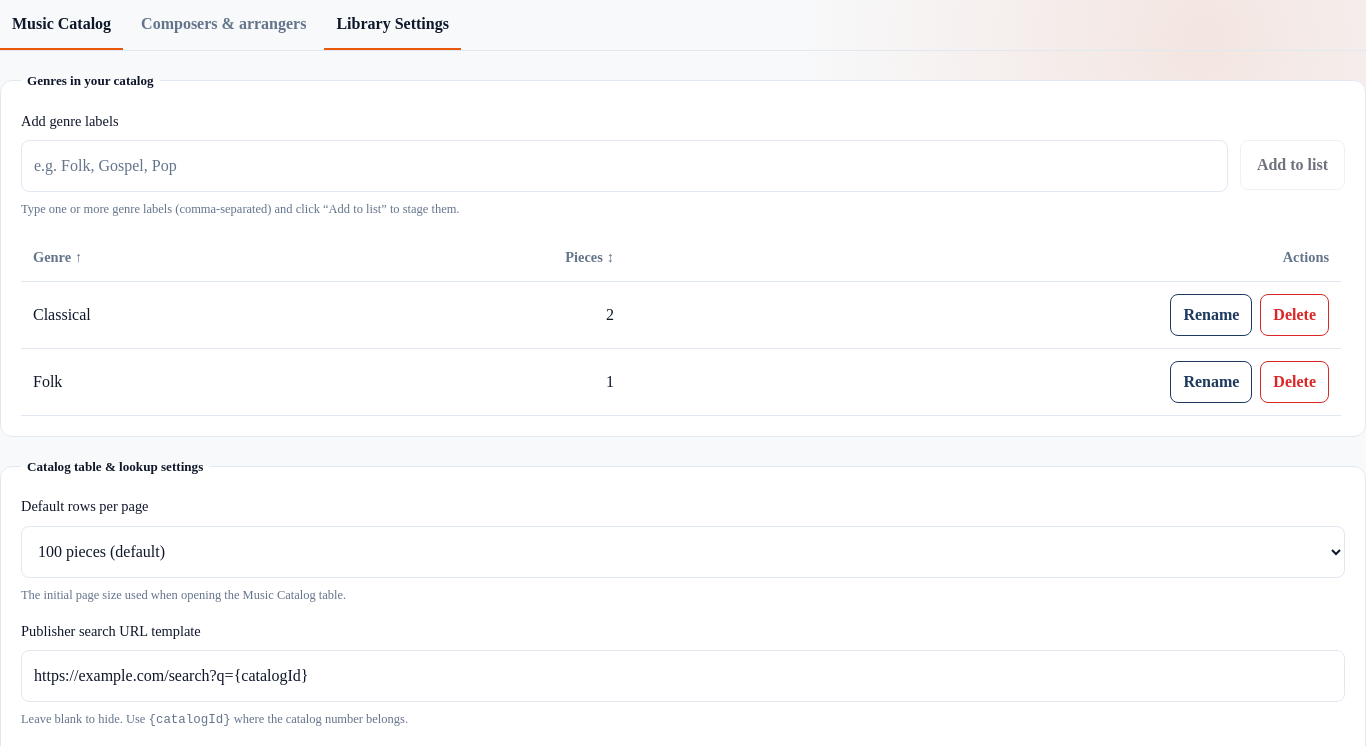
Test: MusicLibrarySettingsPage genre management with DataTable & batch add › rejects duplicates against saved genres and within input
In the field labelled "Add genre labels": x=624, y=166 [21, 140, 1228, 192], type "classical"
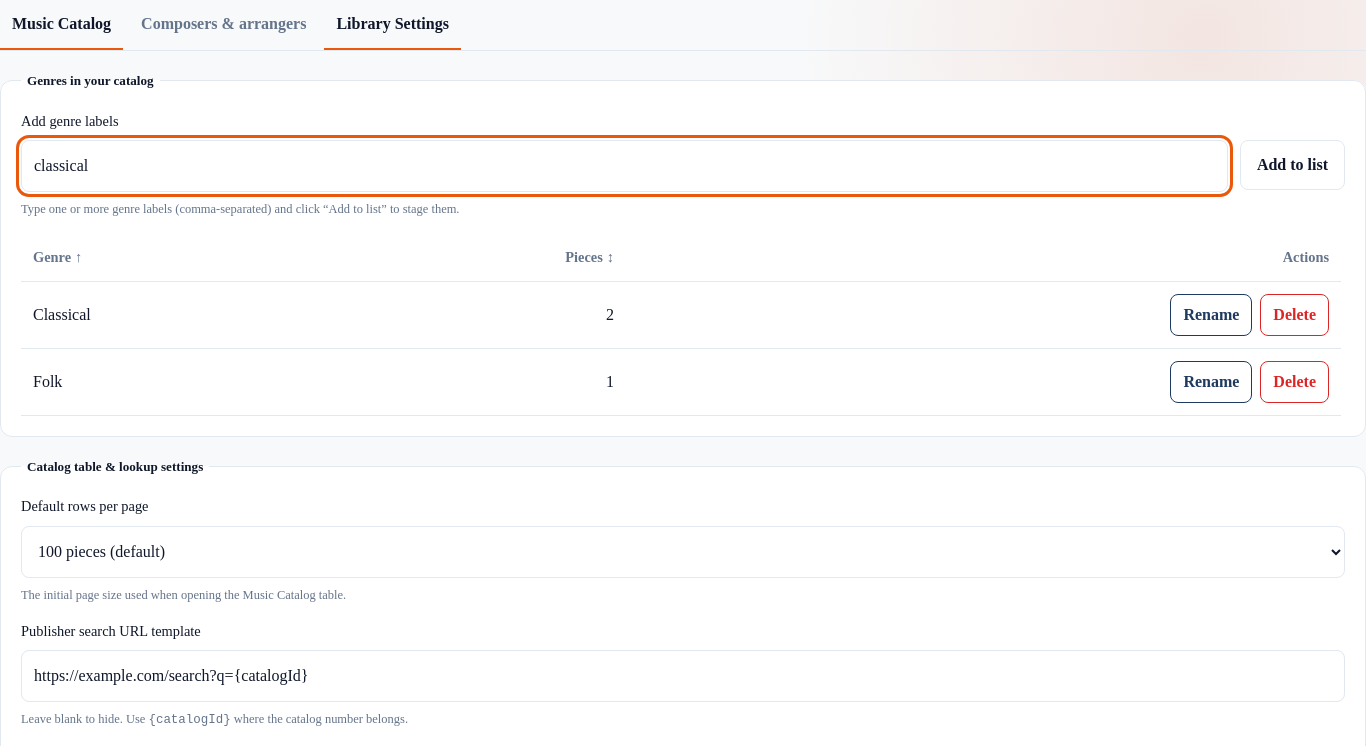
Click the button "Add to list": x=1292, y=165 [1240, 140, 1345, 190]
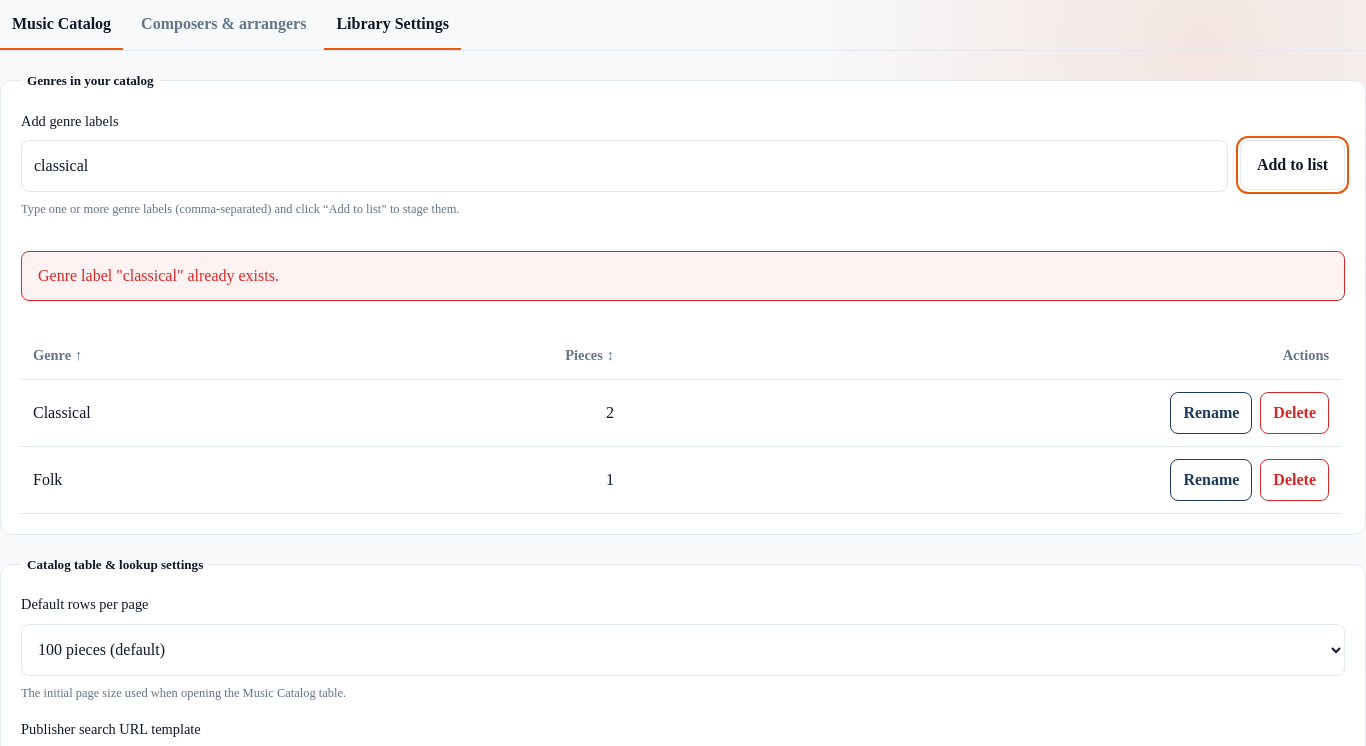
Expected: the message reads "Genre label \"classical\" already exists.", [38, 267, 279, 284]
// Duplicated within input
Replace the text in the field labelled "Add genre labels" with "Rock, rock": x=624, y=166 [21, 140, 1228, 192]
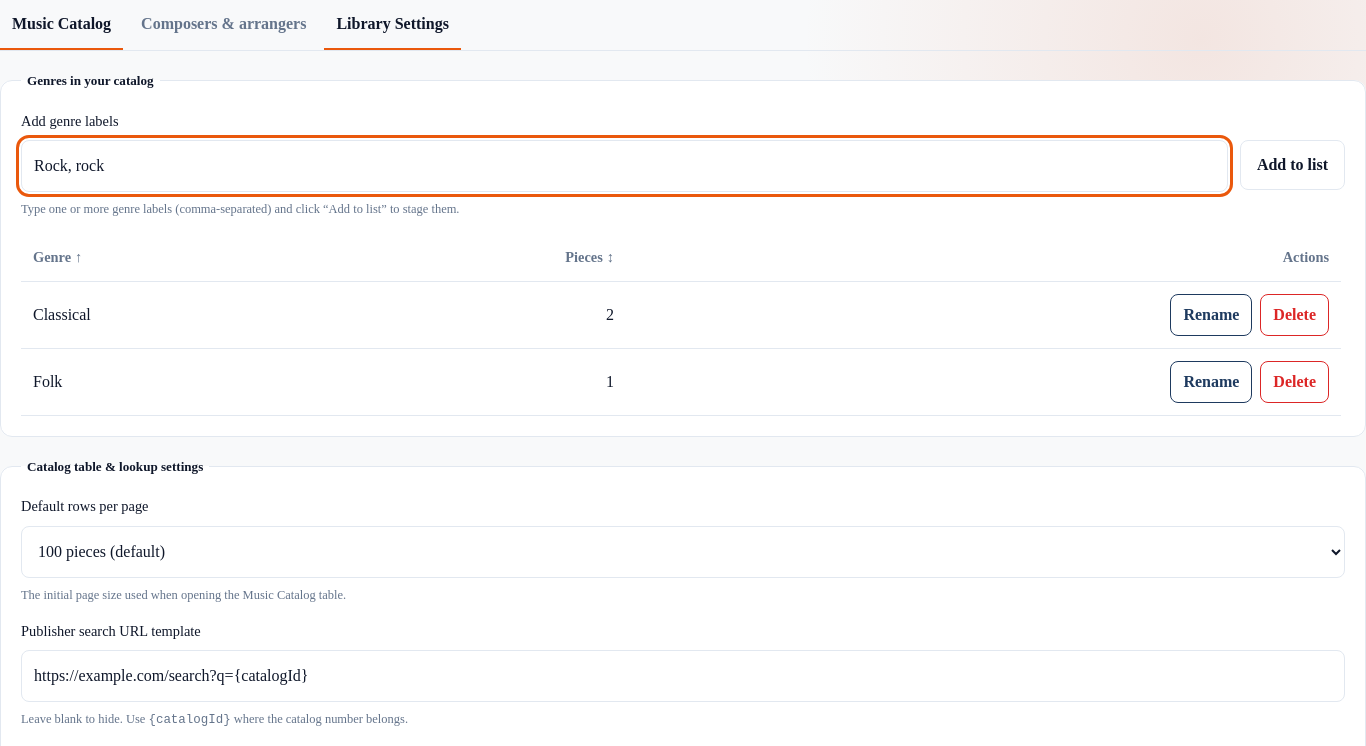
Click the button "Add to list": x=1292, y=165 [1240, 140, 1345, 190]
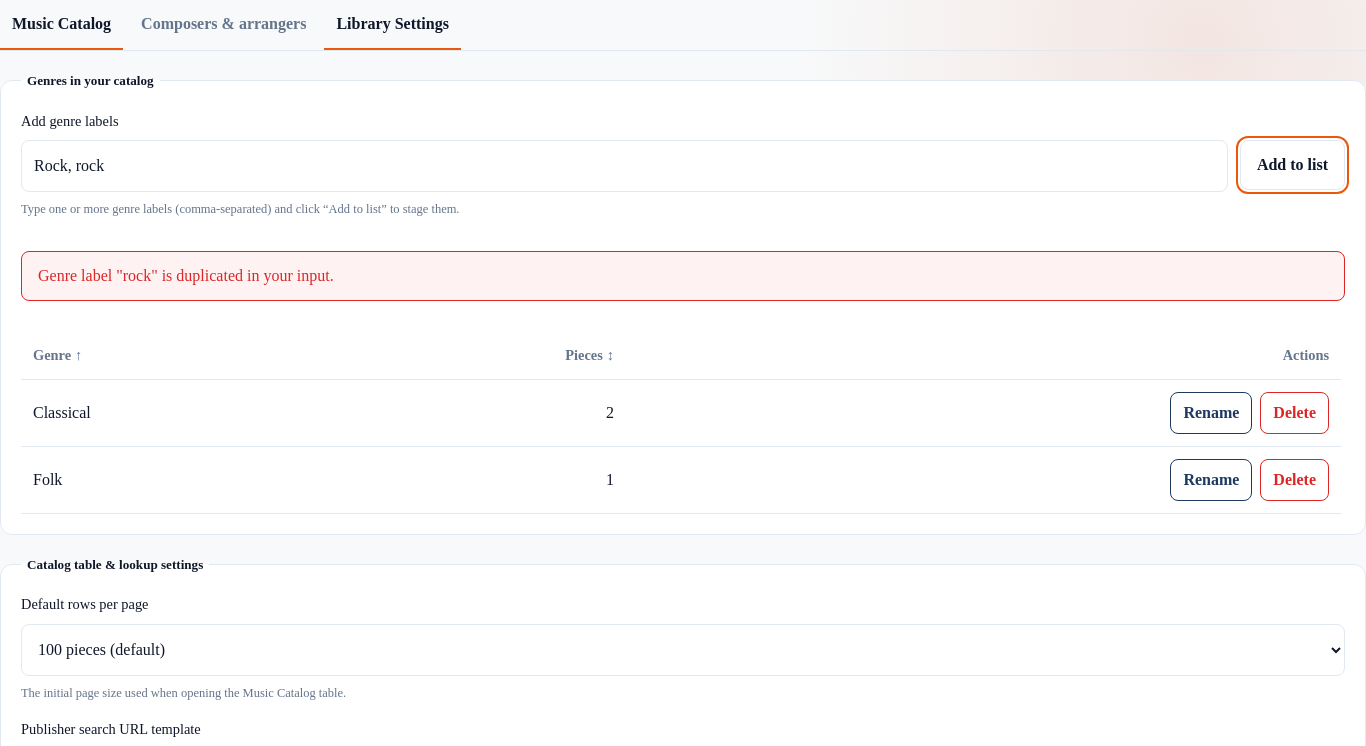
Expected: the message reads "Genre label \"rock\" is duplicated in your input.", [38, 267, 334, 284]
